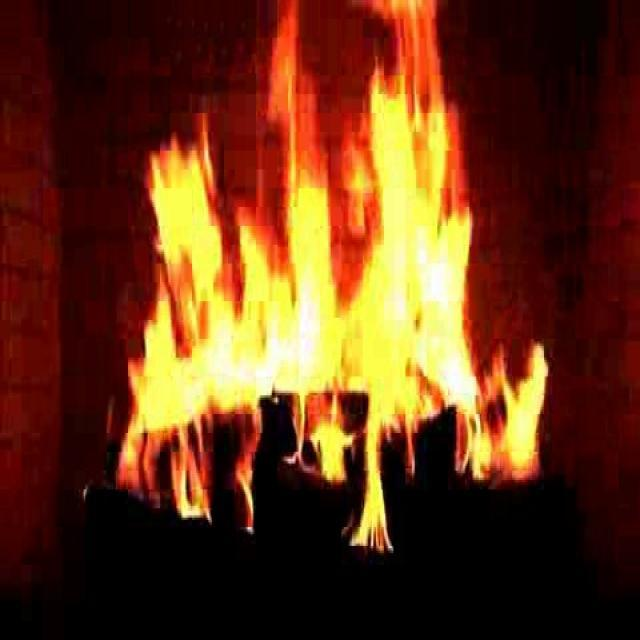Fire: (120, 48, 536, 524)
